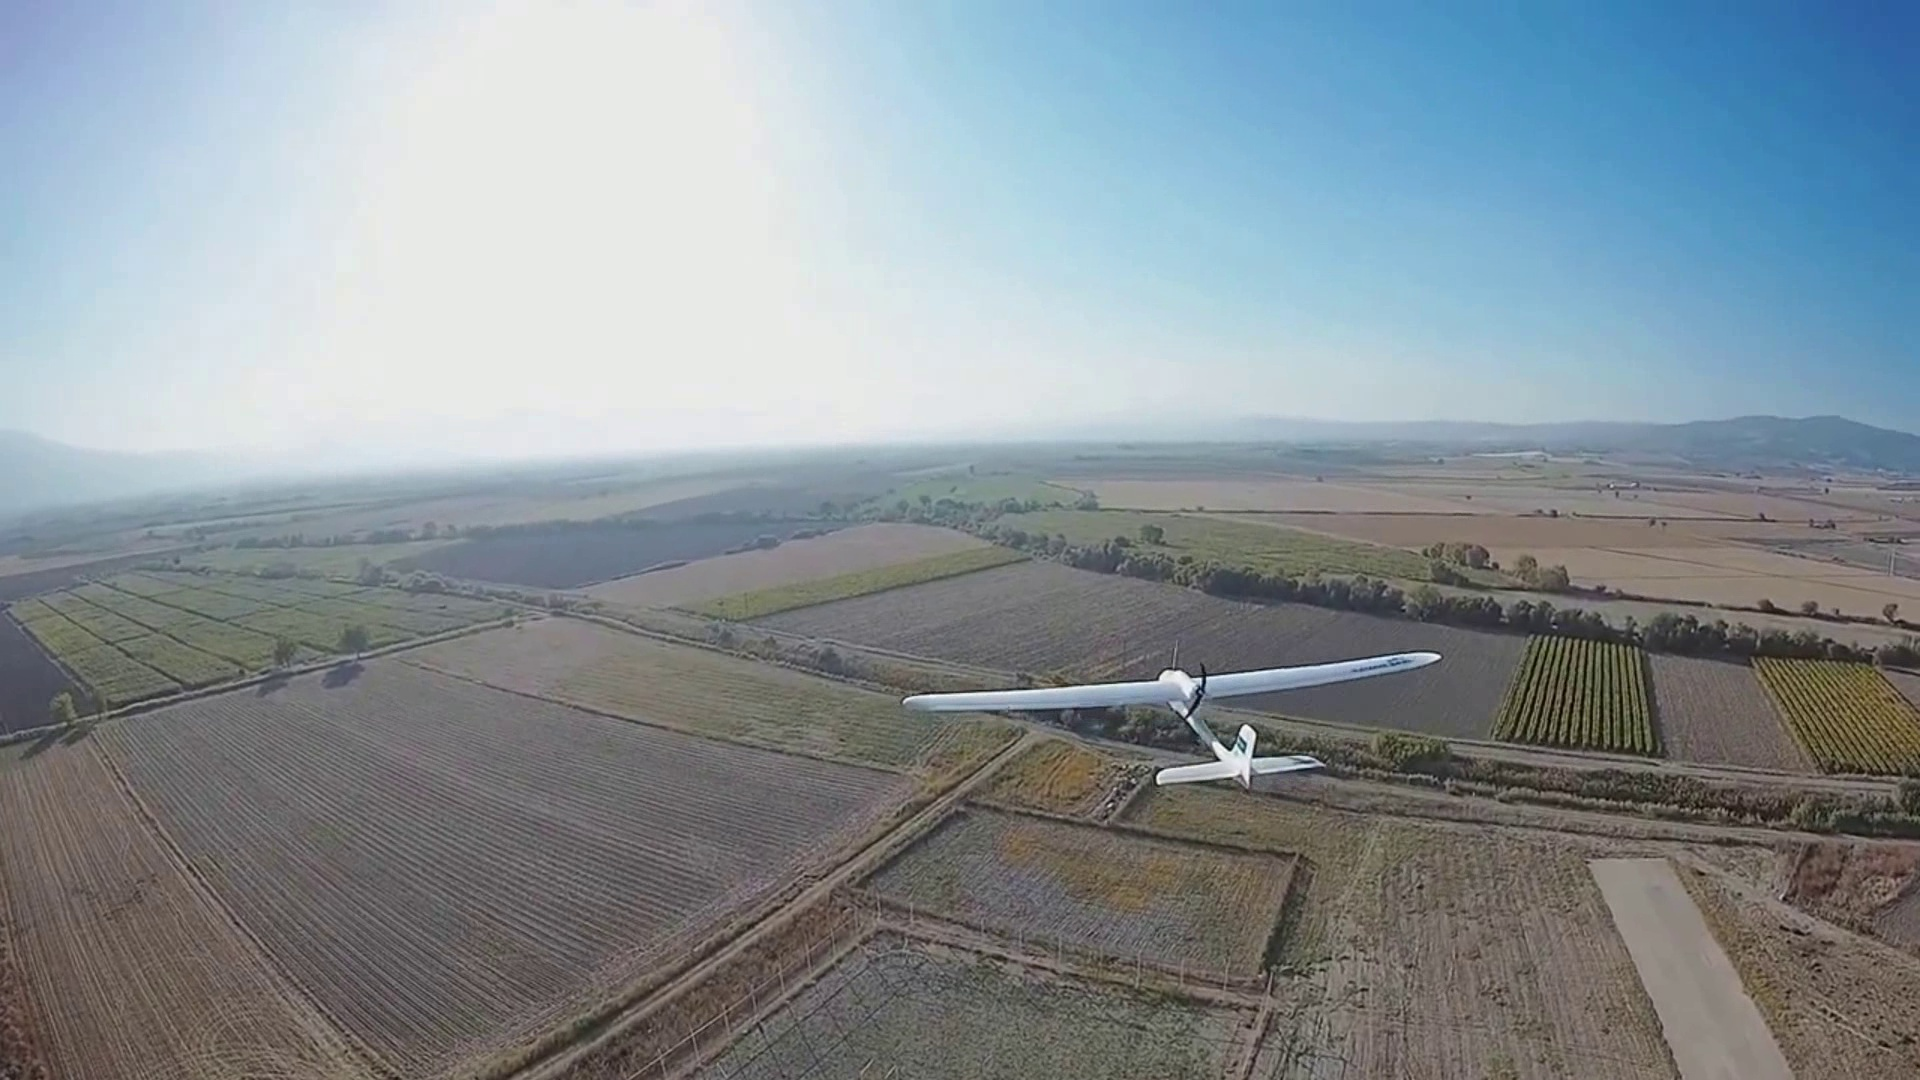airplane: (897, 645, 1442, 790)
